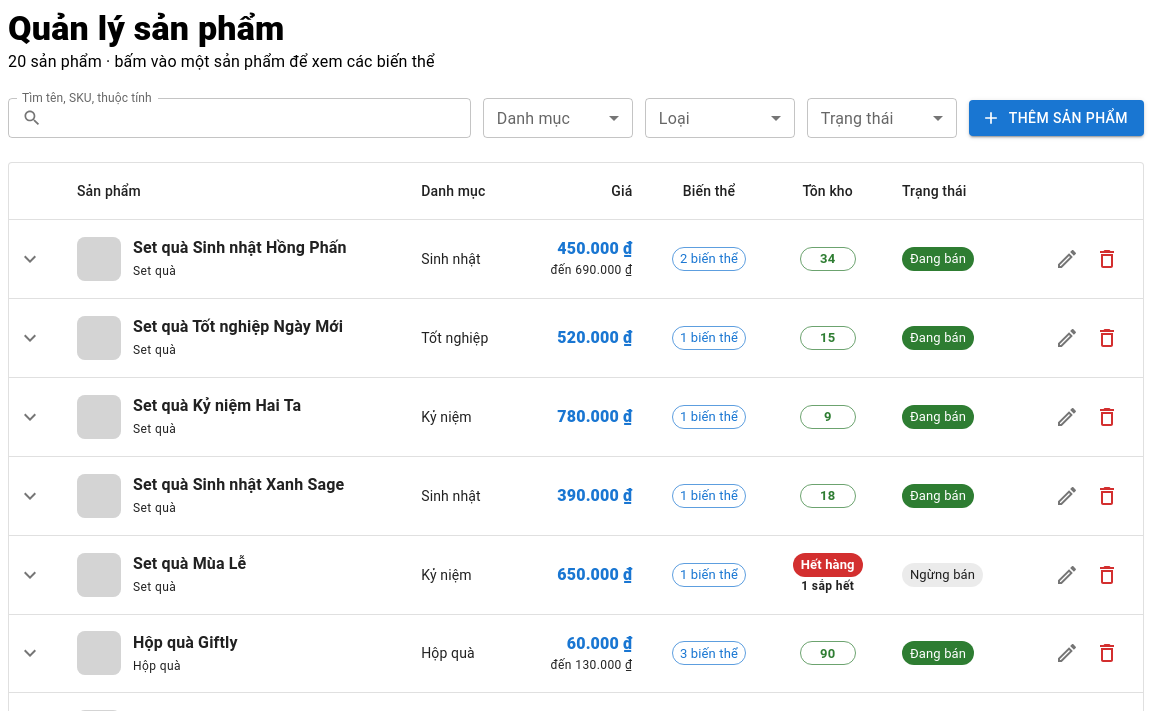
it: AdminProductsPage (cha–biến thể) › nút "Chỉnh sửa biến thể" mở trình sửa ở thẻ Biến thể
The width and height of the screenshot is (1152, 711).
Type "nen thom" into the field labelled "Tìm tên, SKU, thuộc tính" at (260,118), box [50,98,471,138]
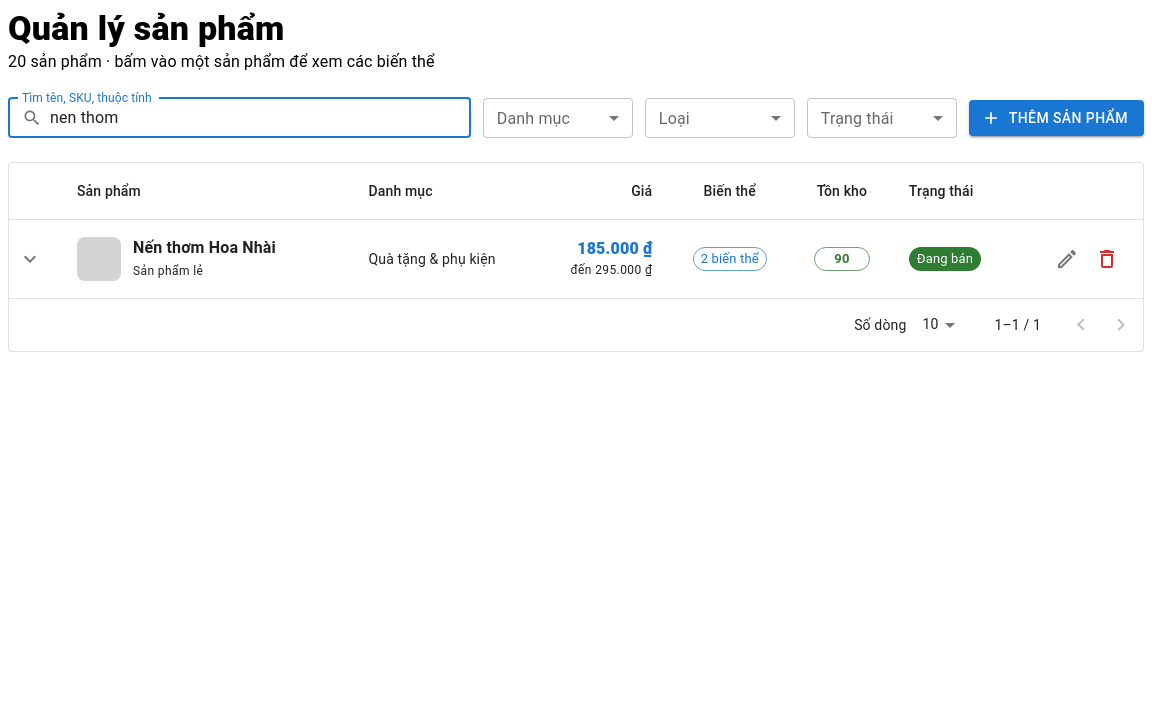
Click the row "Nến thơm Hoa Nhài" at (576,259), box [9,220,1143,298]
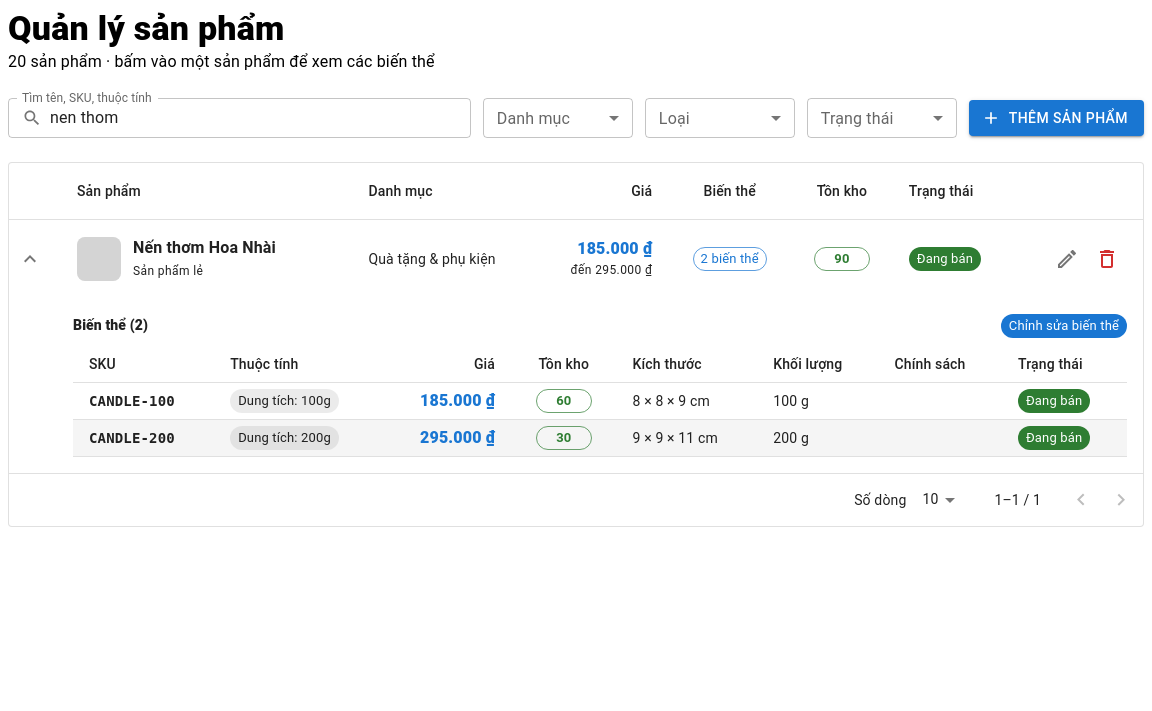
Click the button "Chỉnh sửa biến thể" at (1064,326), box [1001,314,1127,338]
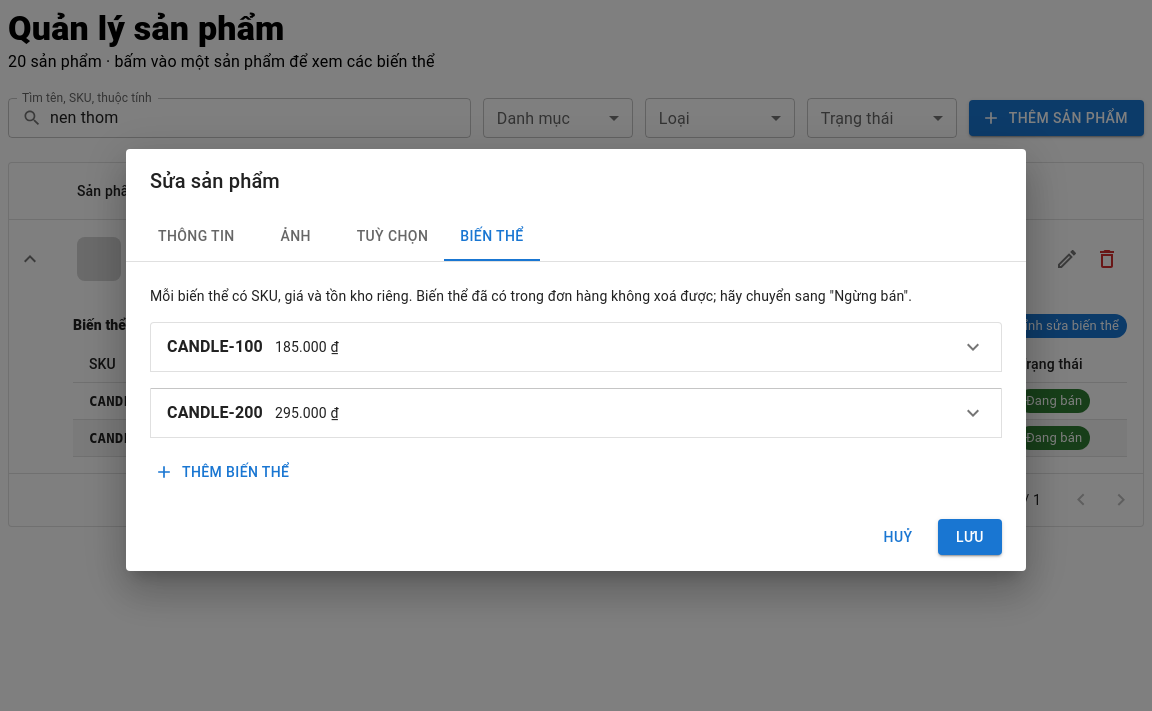
Expected: the tab "Biến thể" is shown, [444,213,540,261]
